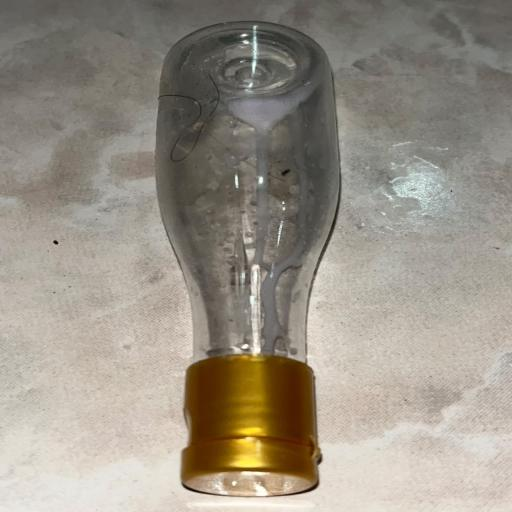PET: (58, 21, 468, 469)
